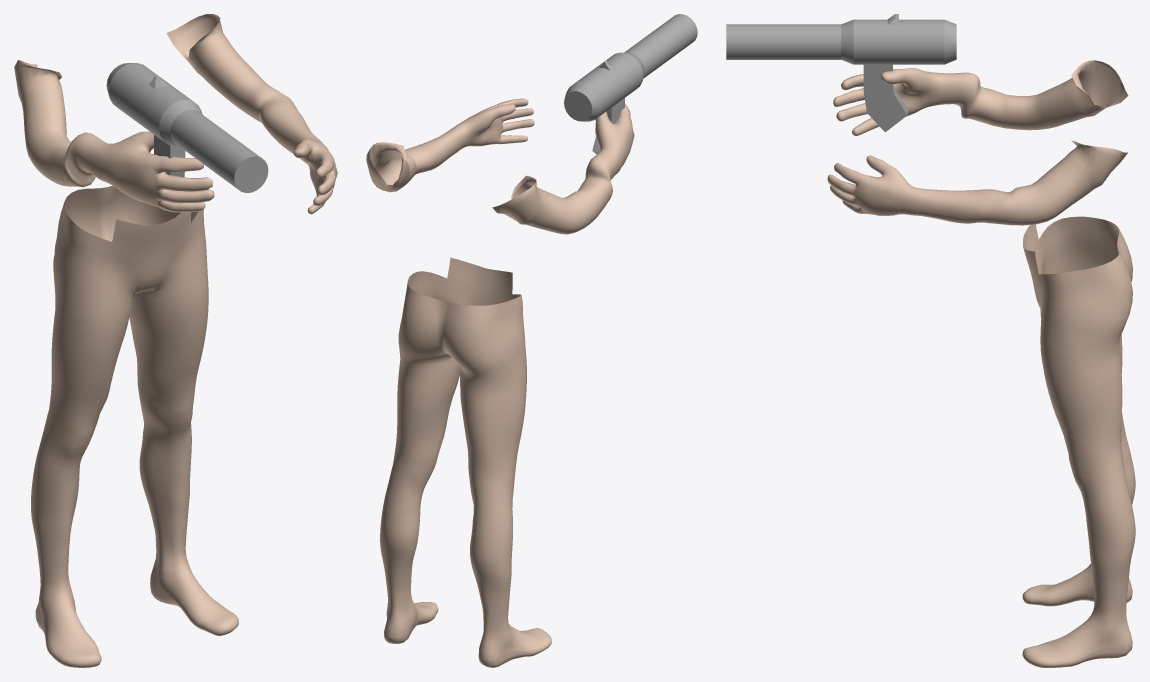
Rendered from FPS_Arm_v1.fbx.
The picture shows the model from 3 angles, left to right: view 1: azimuth 30°, elevation 25°; view 2: azimuth 150°, elevation 25°; view 3: azimuth 270°, elevation 25°; orthographic projection. The views are drawn at different scales.
Visible parts, largest first — view 1: FPS_Arm_v1; view 2: FPS_Arm_v1; view 3: FPS_Arm_v1.
Part boxes in pixels (bbox=[...]): FPS_Arm_v1: bbox=[14, 14, 337, 667]; FPS_Arm_v1: bbox=[366, 14, 697, 667]; FPS_Arm_v1: bbox=[726, 14, 1135, 667].
Size of the model in its own units: 1.26 by 3.16 by 2.
